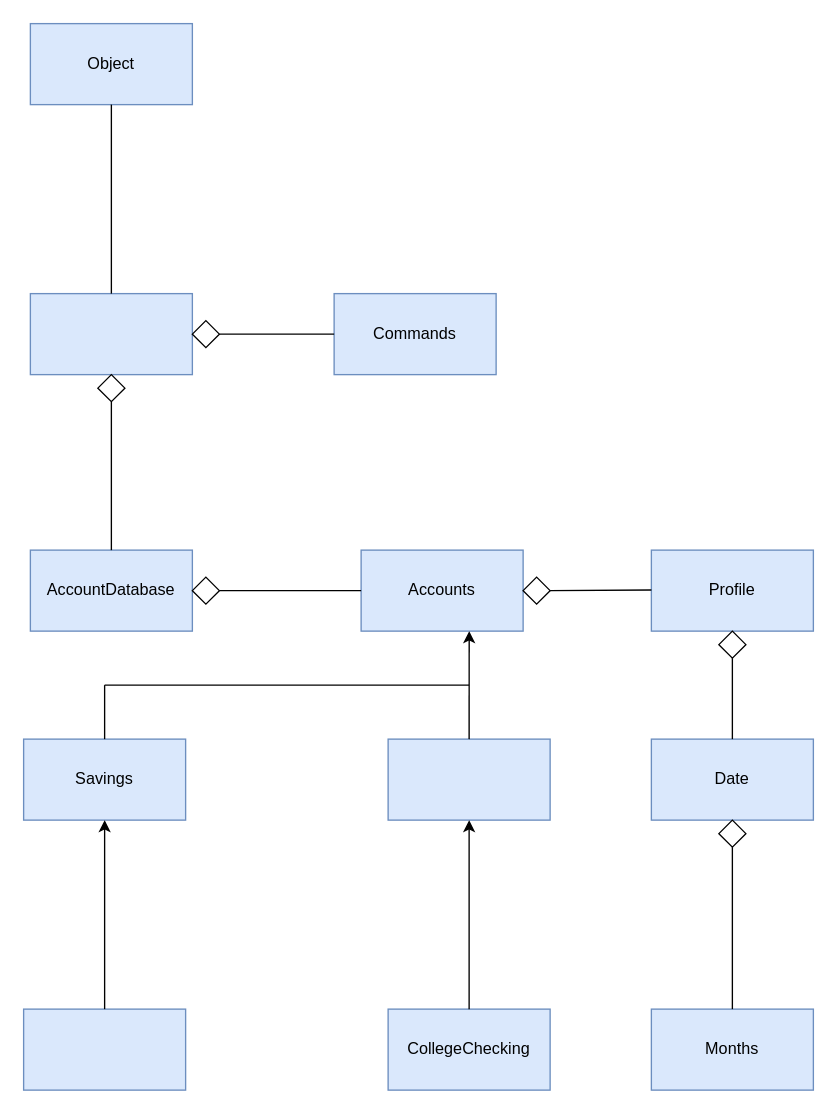
The diagram is 837 pixels wide and 1114 high, and some of its shapes have lost their labels. Here are the shapes that lost their labels. From the top down, the box of each, then its label:
(29, 292, 192, 375): BankTeller
(387, 738, 550, 820): Checkings
(22, 1008, 186, 1090): MoneyMarketing
